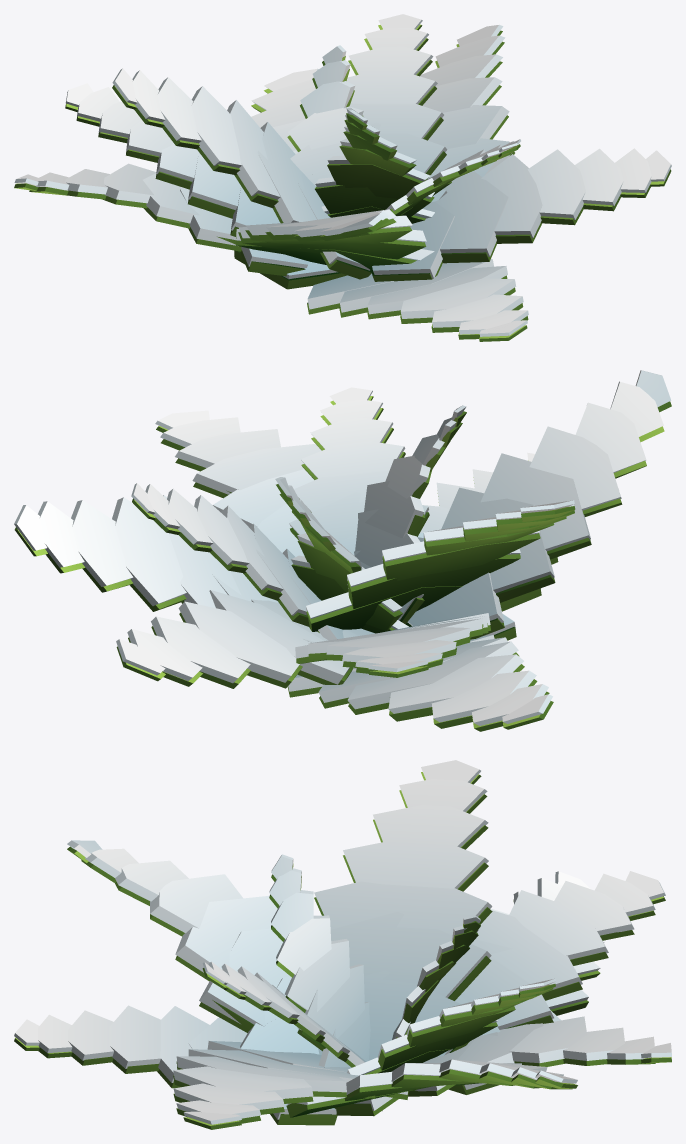
The model's file is fougere3_complet.fbx.
3 renders of one model, top to bottom at view 1: azimuth 30°, elevation 25°; view 2: azimuth 150°, elevation 25°; view 3: azimuth 270°, elevation 25°, orthographic. The views are drawn at different scales.
Parts seen in each view (by area): view 1: Cylinder.075, Cylinder.045; view 2: Cylinder.075, Cylinder.045; view 3: Cylinder.075, Cylinder.045.
Boxes of the visible parts, x1=… form: Cylinder.075: x1=14, y1=14, x2=671, y2=336; Cylinder.045: x1=14, y1=24, x2=671, y2=341; Cylinder.075: x1=14, y1=370, x2=671, y2=725; Cylinder.045: x1=14, y1=396, x2=671, y2=731; Cylinder.075: x1=14, y1=760, x2=671, y2=1124; Cylinder.045: x1=14, y1=772, x2=671, y2=1129.
Bounding box in the file's own units: 1.57 × 0.6548 × 1.64.
Materials: 1 (1 with a texture image).
